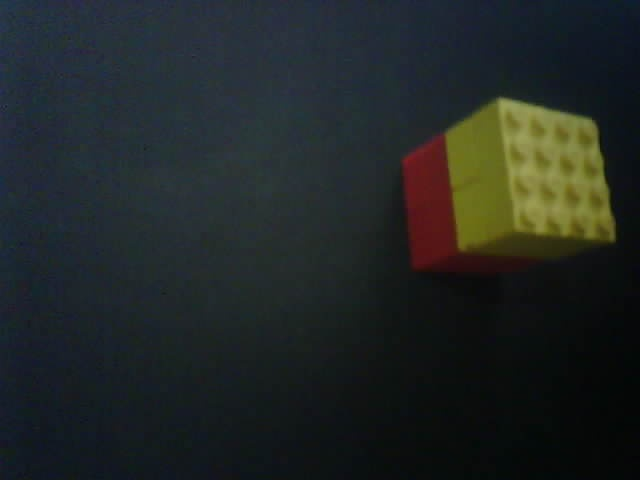lego: (400, 95, 618, 279)
